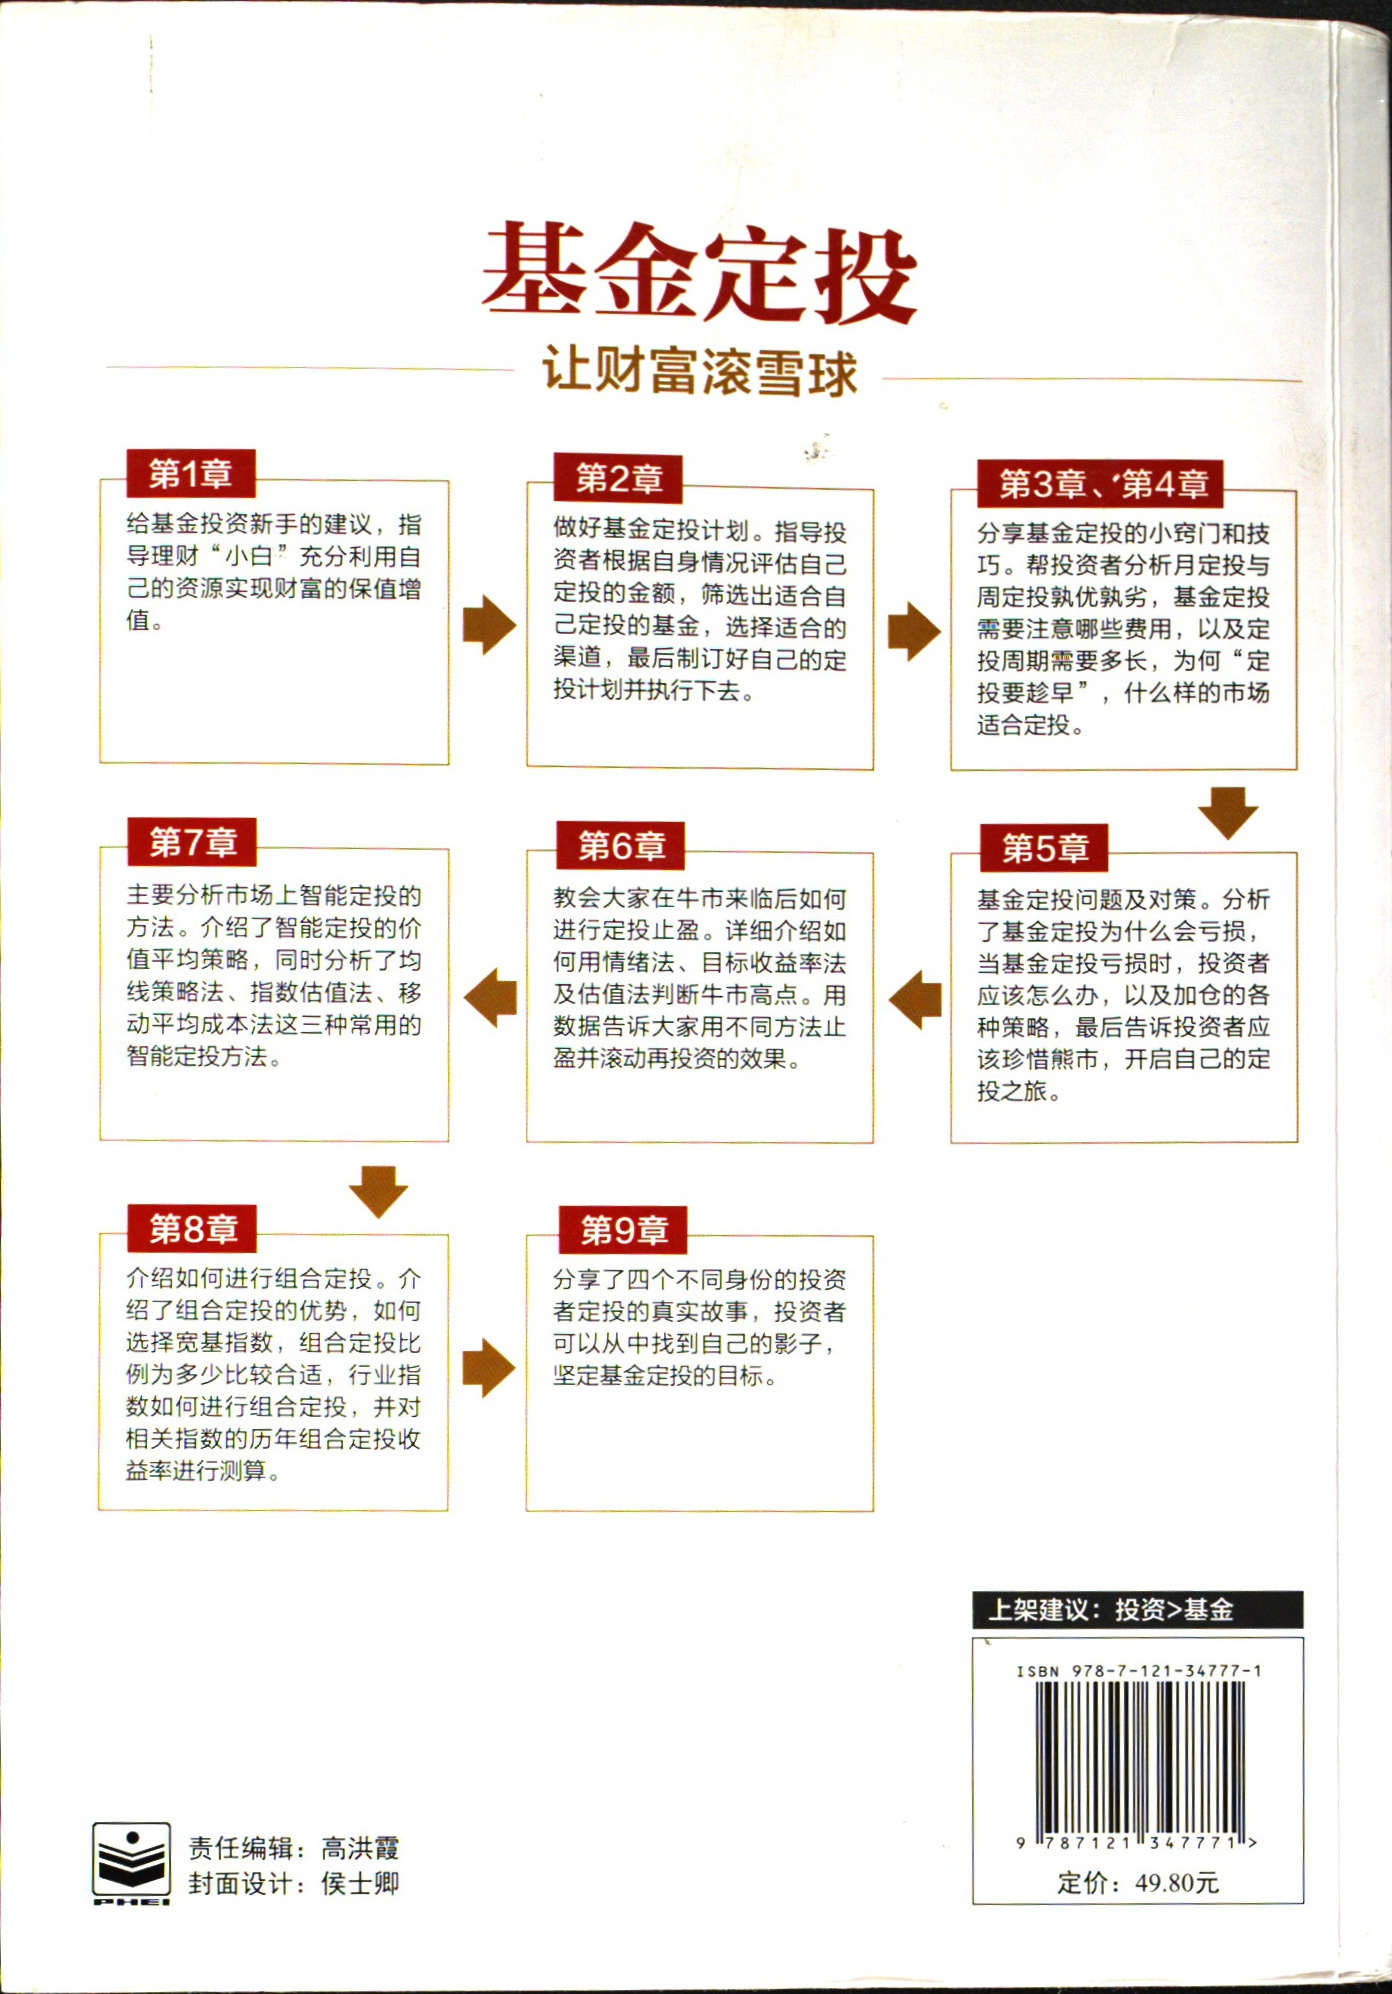barcode: (983, 1635, 1295, 1915)
